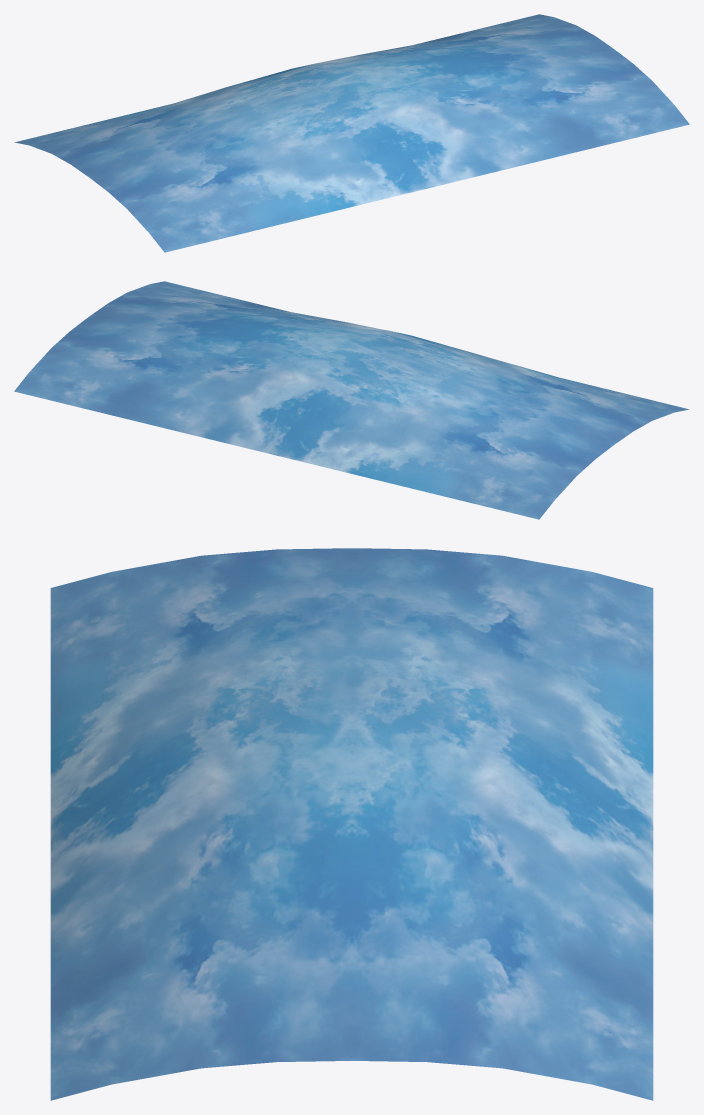
3 views of the same model, one above another, from view 1: azimuth 30°, elevation 25°; view 2: azimuth 150°, elevation 25°; view 3: azimuth 270°, elevation 25° (orthographic). The views are drawn at different scales.
Visible parts, largest first — view 1: Plane02; view 2: Plane02; view 3: Plane02.
Part boxes in pixels (bbox=[...]): Plane02: bbox=[14, 14, 689, 252]; Plane02: bbox=[14, 281, 689, 519]; Plane02: bbox=[50, 548, 653, 1100].
Size of the model in its own units: 19931 by 1980 by 9901.
